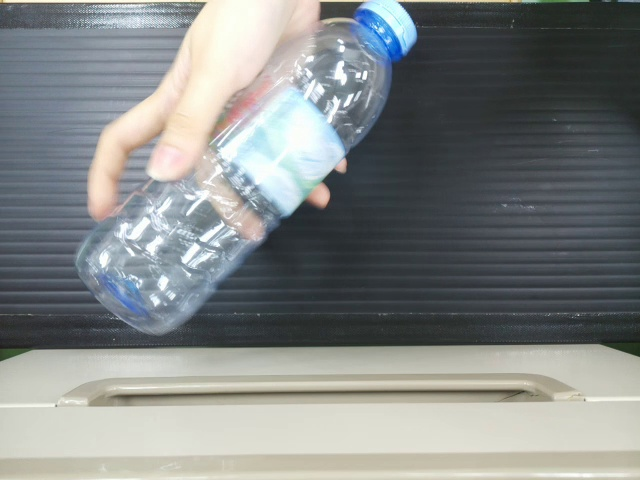bottle: (78, 6, 422, 333)
